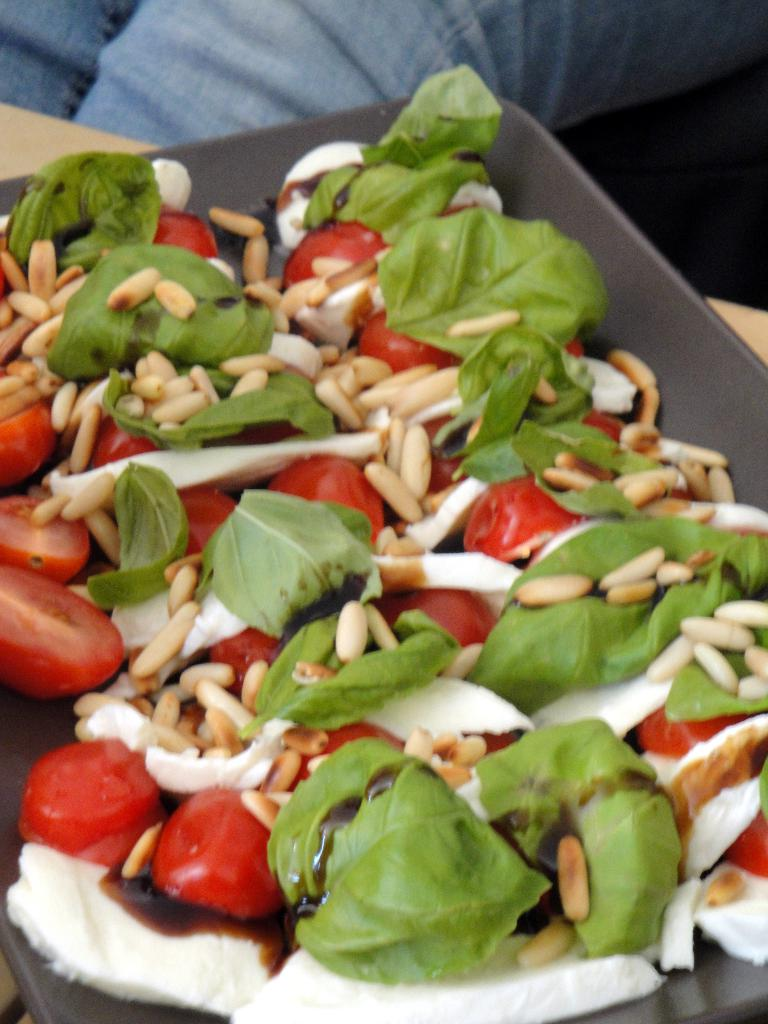Tomato: (8, 736, 158, 851), (0, 564, 126, 696), (151, 787, 278, 916), (459, 477, 581, 566), (271, 717, 402, 796), (266, 454, 379, 545), (0, 499, 90, 583), (282, 219, 384, 283), (383, 590, 491, 649), (355, 311, 456, 369), (635, 709, 745, 757), (210, 628, 276, 696), (0, 402, 55, 480), (175, 484, 231, 557), (72, 822, 147, 871), (93, 417, 156, 471), (574, 410, 623, 478), (426, 414, 466, 492), (154, 210, 217, 257), (724, 808, 767, 874), (0, 236, 11, 297), (566, 332, 581, 360)
